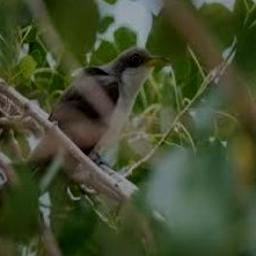Cuckoo: (28, 46, 170, 198)
